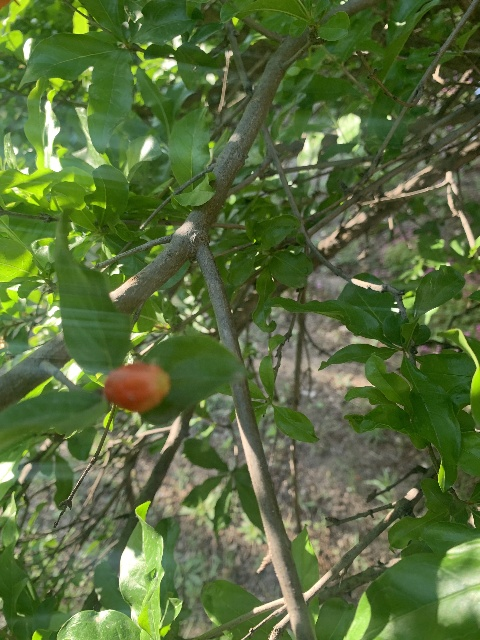bud: (104, 362, 171, 412)
